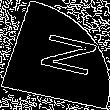N_W: (19, 28, 91, 82)
